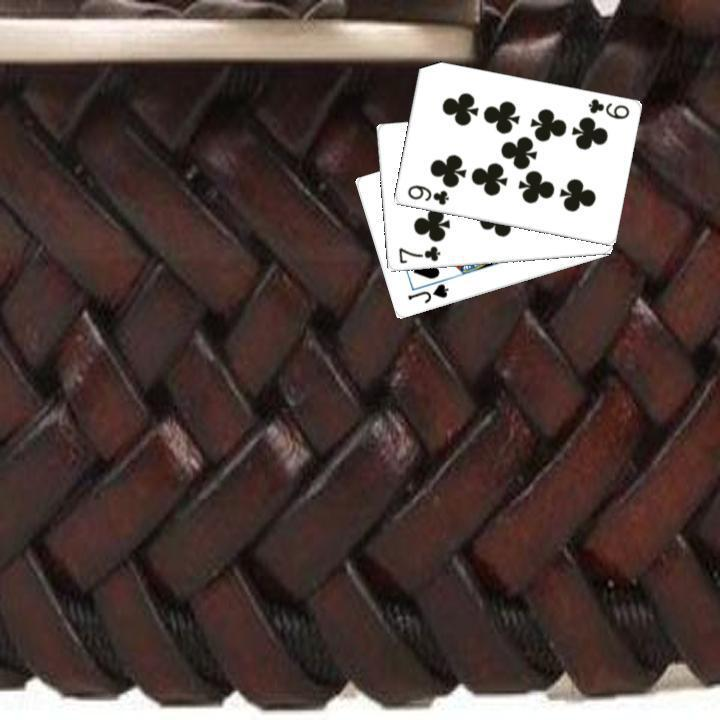7: (394, 242, 442, 266)
9: (583, 94, 631, 122), (403, 181, 451, 207)
J: (403, 280, 450, 306)
